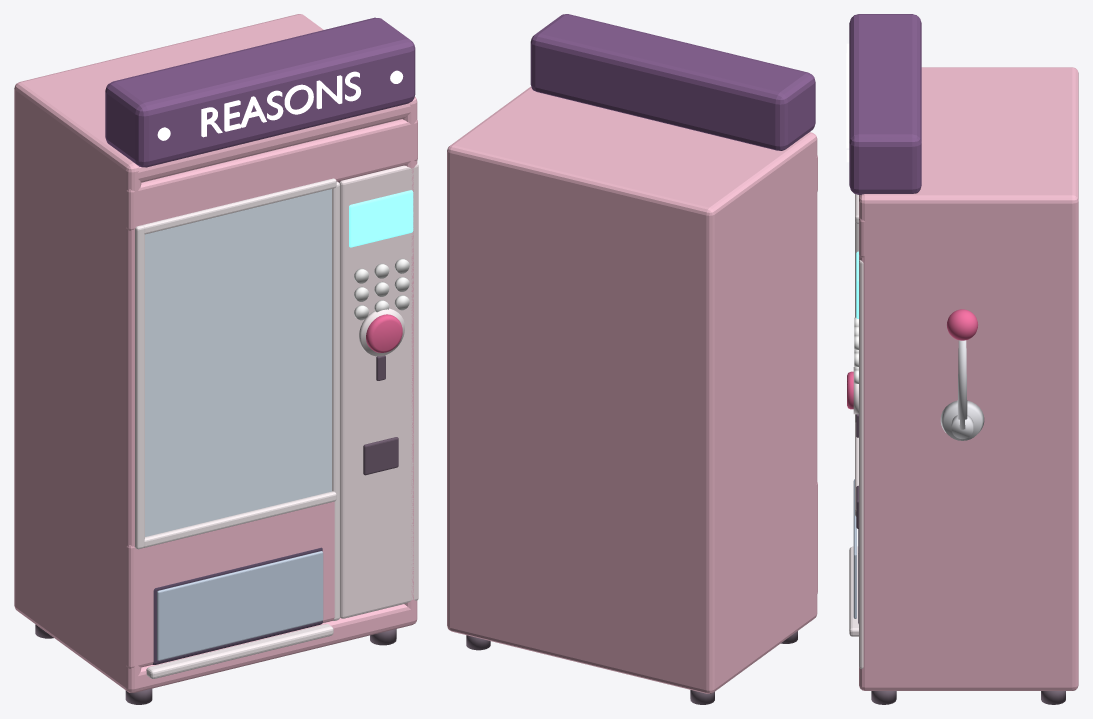
The model's file is vending.glb.
3 renders of one model, left to right at view 1: azimuth 30°, elevation 25°; view 2: azimuth 150°, elevation 25°; view 3: azimuth 270°, elevation 25°, orthographic. The views are drawn at different scales.
Visible parts, largest first — view 1: SideL, Glass, PanelFace, Sign, FrontUpper, FrontLower, Flap, Top, Base, FrontMullion, TrimLeft, Screen (+10 smaller); view 2: Back, SideL, Sign, Top, Base, SideR; view 3: SideR, Top, Sign, Back, PanelFace, Base, LeverBase, LeverArm, LeverKnob, TrayLip, Flap, FrontUpper (+2 smaller).
Boxes of the visible parts, box(x1,y1,x2,y2) form: SideL: box(15, 82, 141, 692); Glass: box(145, 189, 331, 536); PanelFace: box(339, 163, 418, 618); Sign: box(105, 17, 415, 167); FrontUpper: box(123, 119, 417, 230); FrontLower: box(123, 501, 334, 668); Flap: box(157, 551, 323, 660); Top: box(16, 16, 412, 182); Base: box(15, 595, 415, 692); FrontMullion: box(332, 181, 340, 620); TrimLeft: box(135, 225, 144, 549); Screen: box(349, 190, 413, 247); Back: box(447, 144, 716, 693); SideL: box(703, 132, 817, 693); Sign: box(530, 14, 815, 150); Top: box(451, 90, 783, 221); Base: box(447, 603, 817, 693); SideR: box(448, 86, 532, 631); SideR: box(859, 194, 1078, 687); Top: box(859, 69, 1070, 210); Sign: box(849, 14, 921, 194); Back: box(1069, 67, 1078, 690); PanelFace: box(859, 260, 863, 668); Base: box(859, 674, 1077, 690); LeverBase: box(940, 400, 984, 440); LeverArm: box(957, 340, 967, 429); LeverKnob: box(947, 309, 977, 340); TrayLip: box(849, 546, 858, 636); Flap: box(853, 479, 856, 618); FrontUpper: box(859, 218, 869, 257).
Bounding box in the file's own units: 1.11 × 2 × 0.74.
